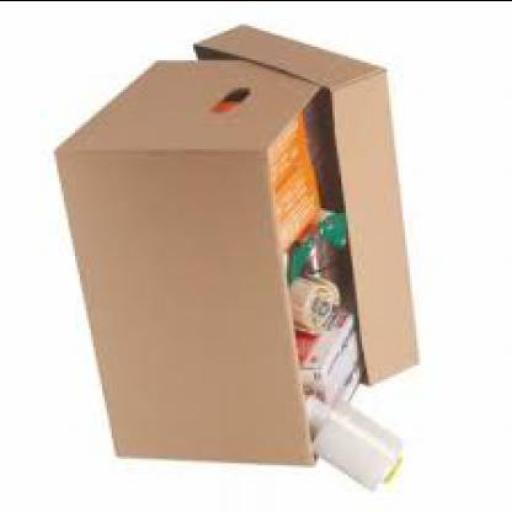cardboard: (59, 57, 367, 460), (193, 20, 421, 382), (209, 96, 314, 186), (266, 153, 328, 246), (300, 307, 364, 396), (342, 364, 366, 396)
paper: (314, 397, 405, 485), (298, 278, 343, 328), (292, 230, 318, 275), (307, 237, 344, 266), (322, 207, 348, 246), (311, 262, 346, 288)
